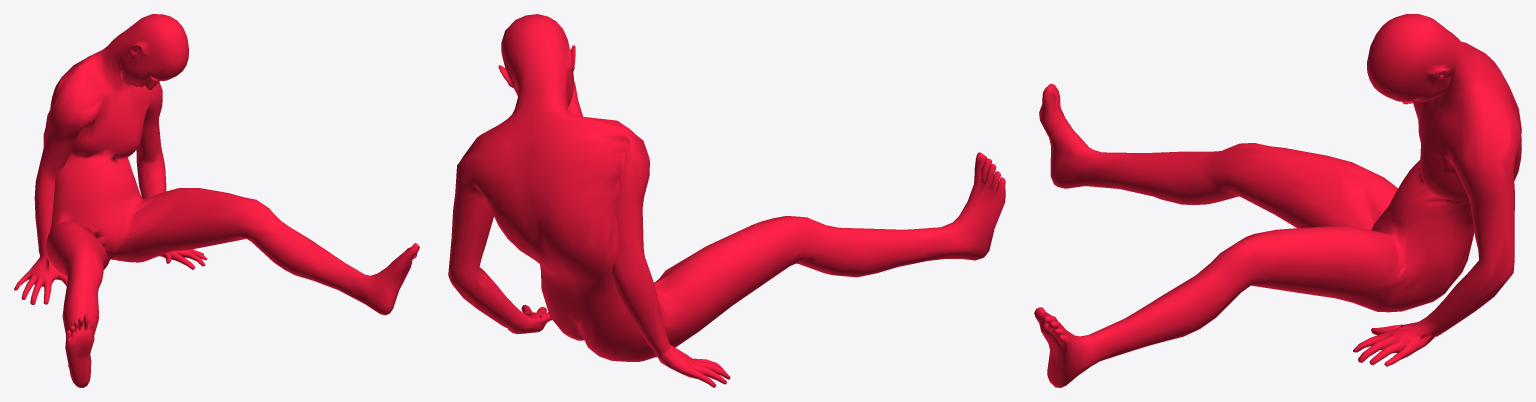
File: benjamin-anim.glb
The picture shows the model from 3 angles, left to right: view 1: azimuth 30°, elevation 25°; view 2: azimuth 150°, elevation 25°; view 3: azimuth 270°, elevation 25°; orthographic projection. The views are drawn at different scales.
Visible parts, largest first — view 1: Genesis_Shape; view 2: Genesis_Shape; view 3: Genesis_Shape.
Part boxes in pixels (x1=…): Genesis_Shape: x1=14, y1=14, x2=419, y2=387; Genesis_Shape: x1=448, y1=14, x2=1005, y2=387; Genesis_Shape: x1=1034, y1=14, x2=1521, y2=387.
Bounding box in the file's own units: 1.23 × 0.8224 × 1.09.
